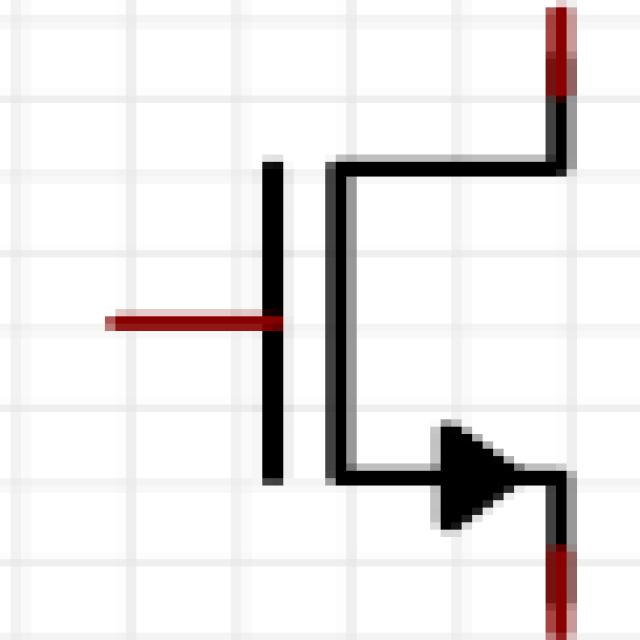nmos: (70, 26, 640, 613)
